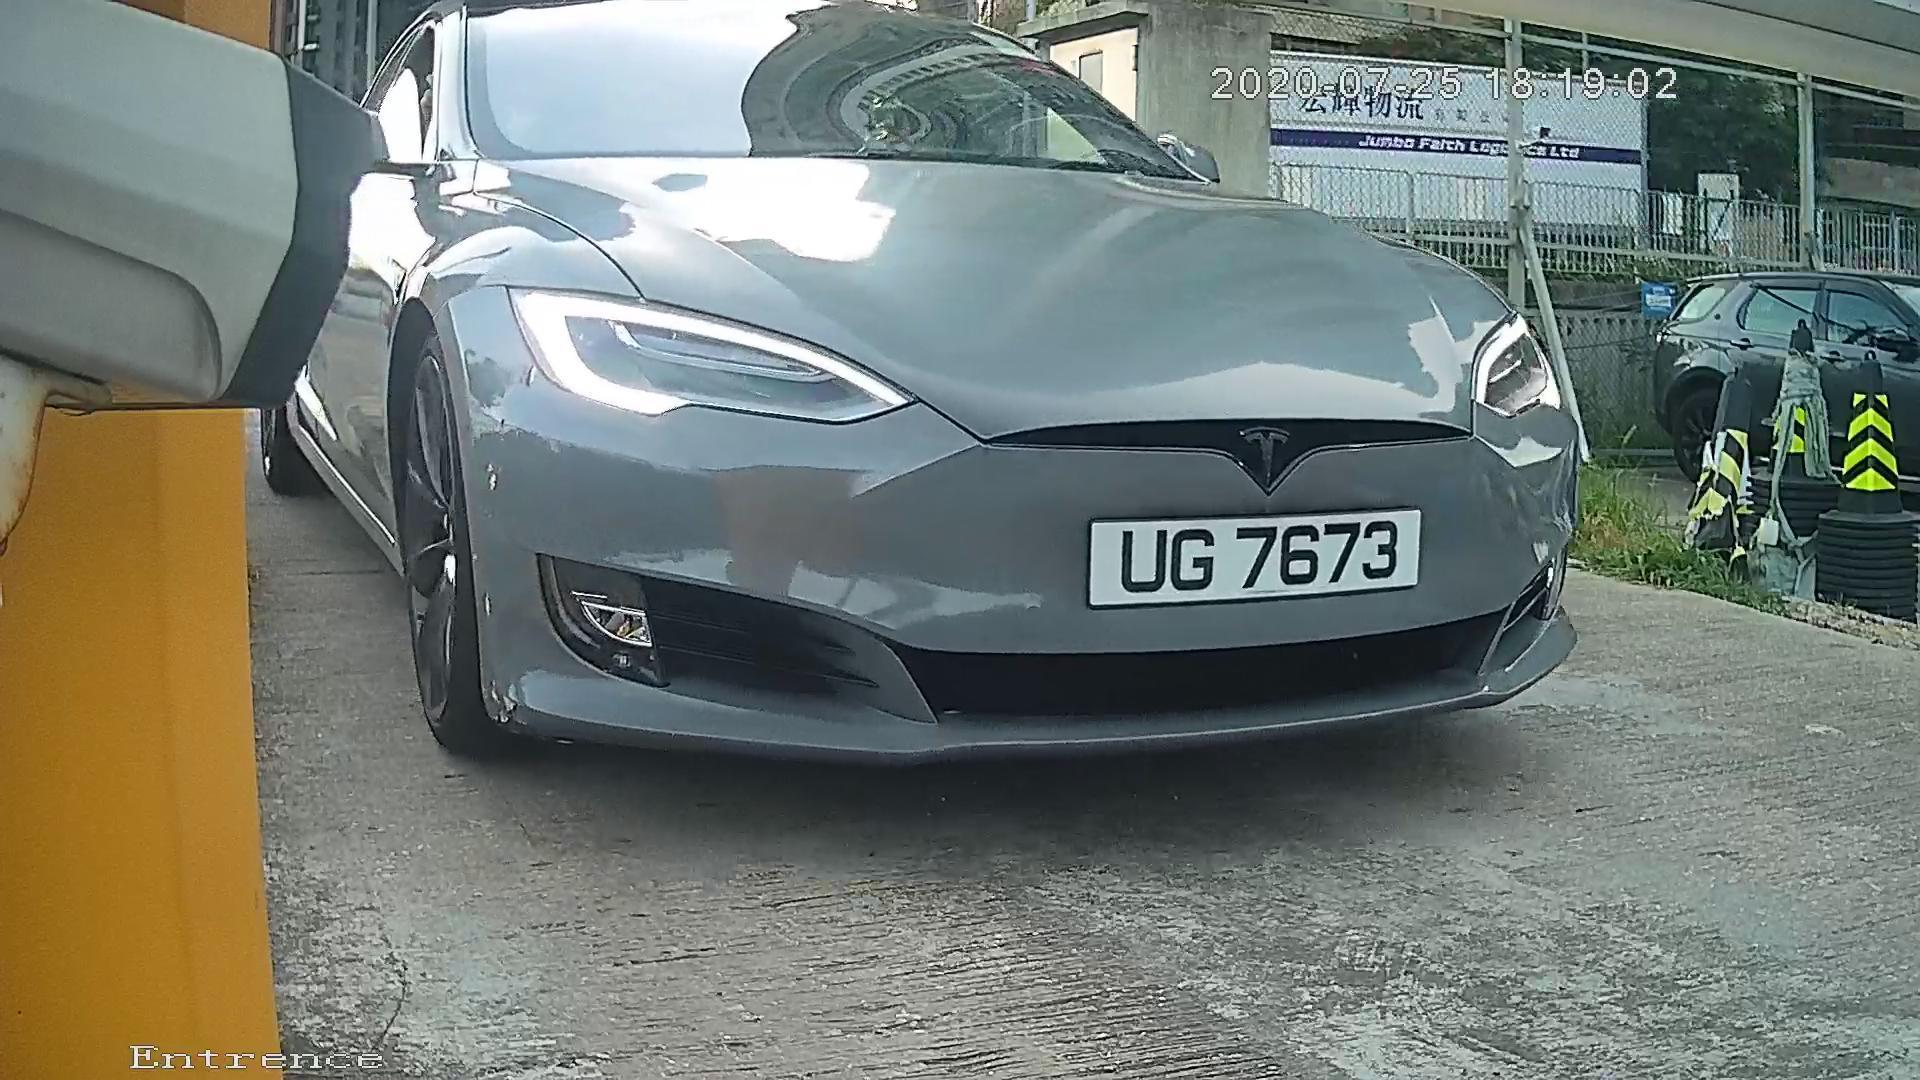privatecar: (258, 1, 1741, 820)
